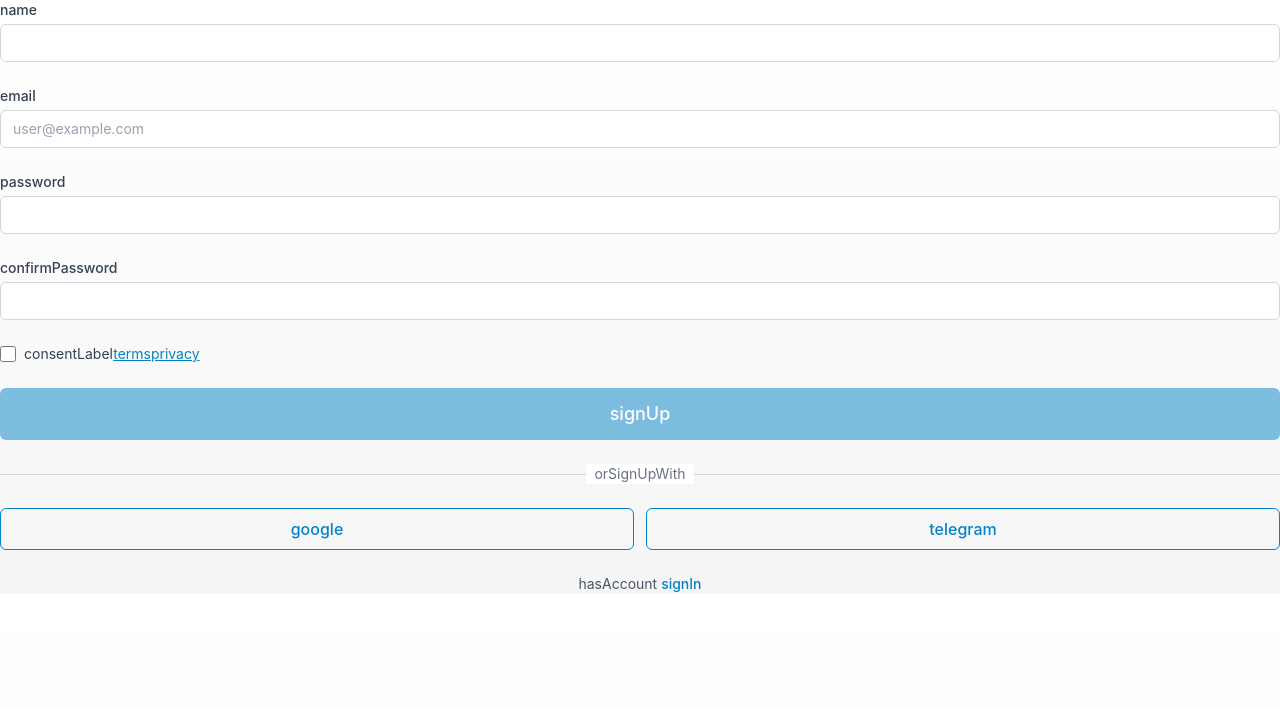
Test: RegisterForm › shows confirm password mismatch error on blur
In the password field labelled "password": (640, 215) [0,196,1279,234], type "Password1"
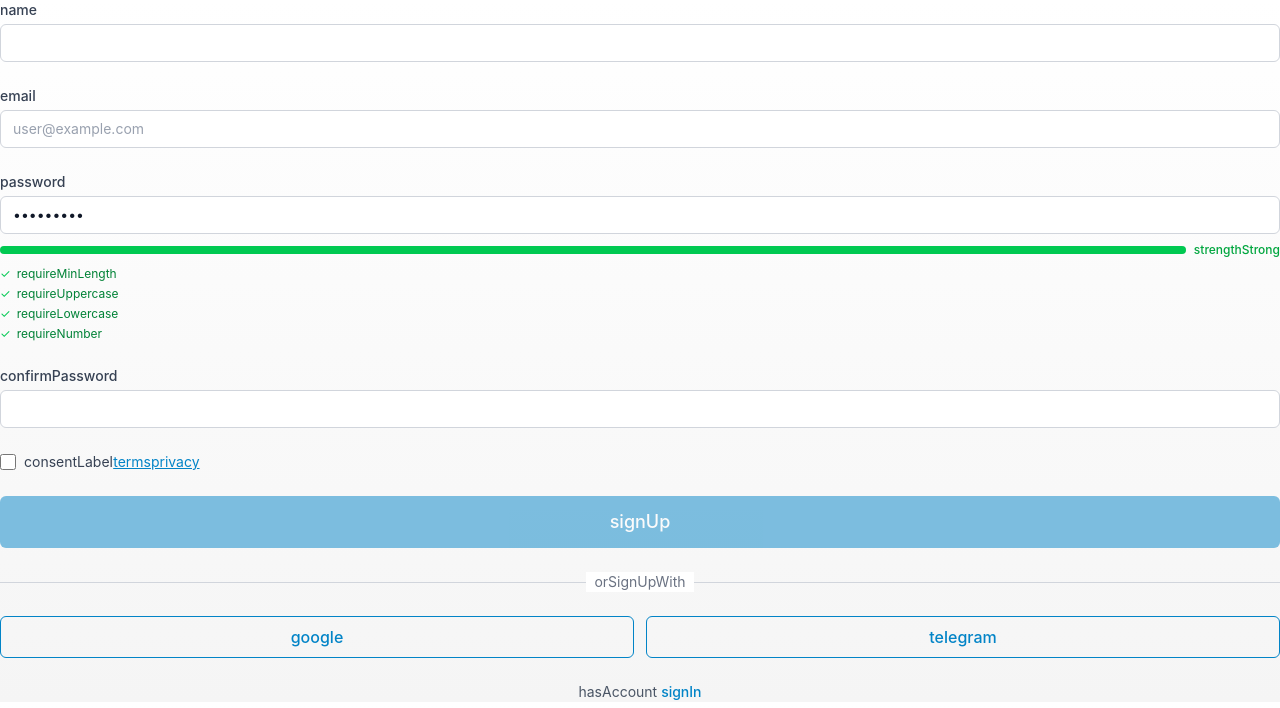
In the password field labelled "confirmPassword": (640, 409) [0,390,1279,428], type "Different1"
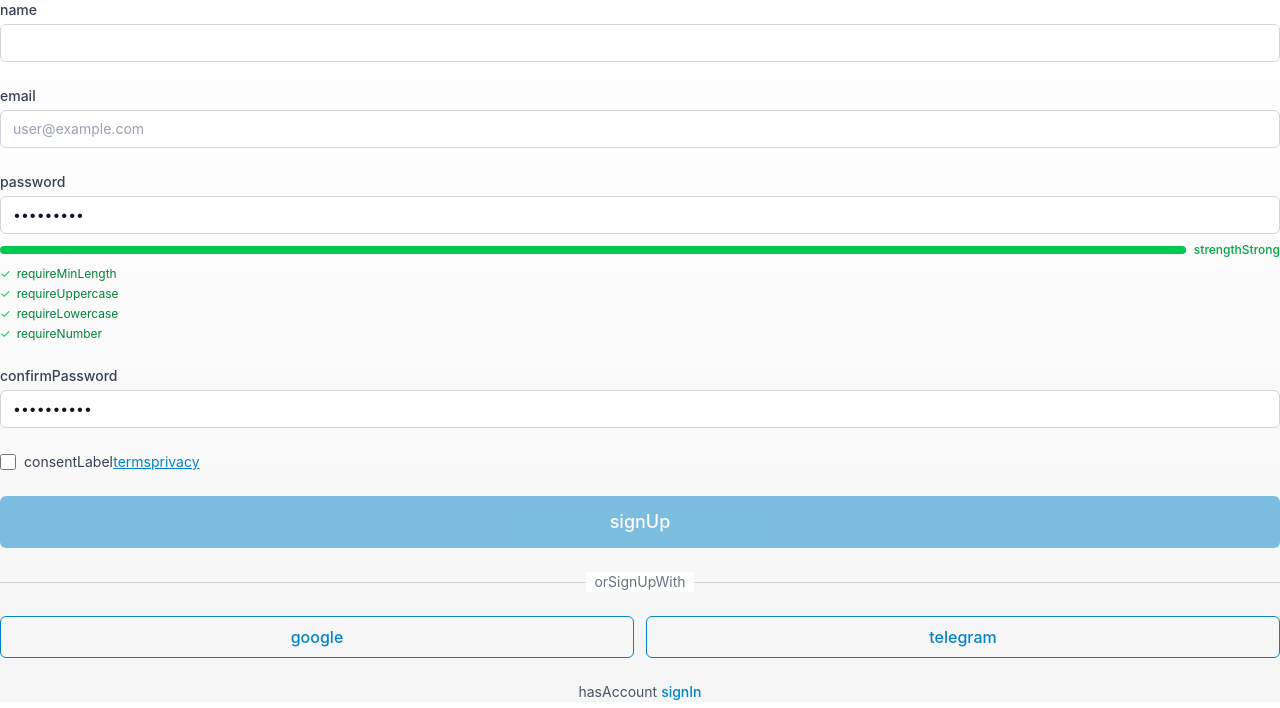
Leave the password field labelled "confirmPassword", box [0,390,1279,428]
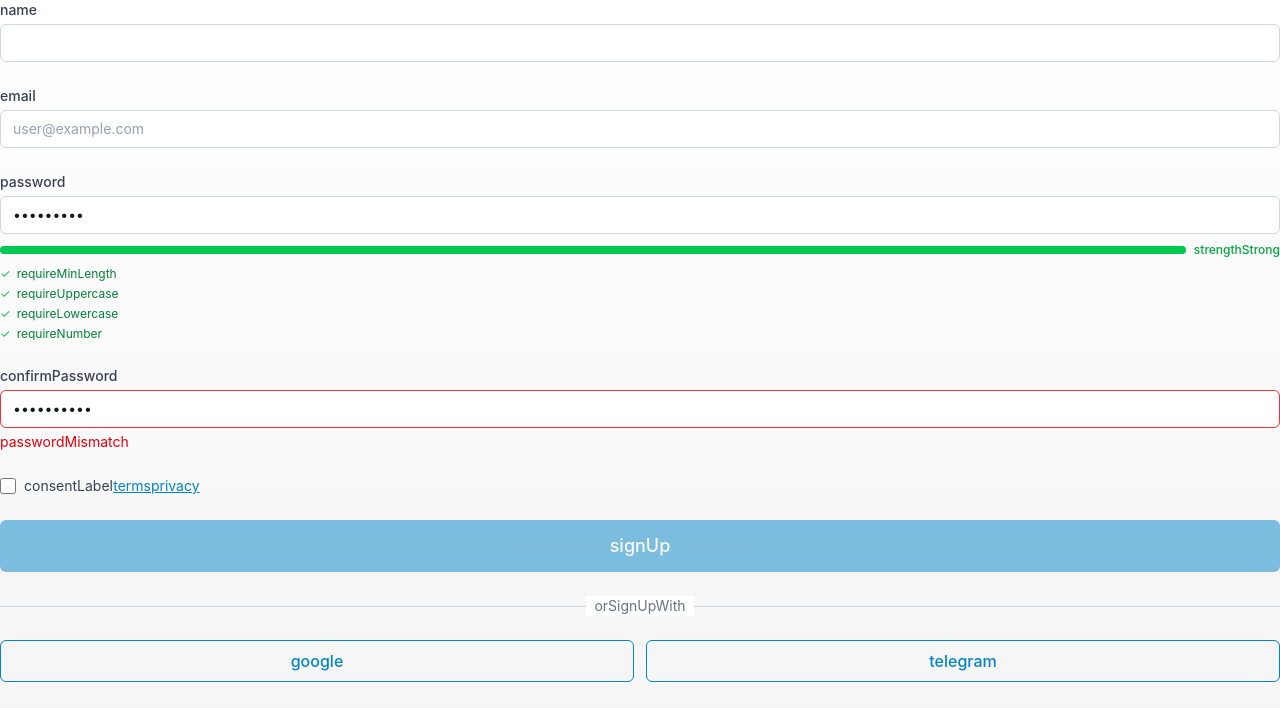
Expected: the text "passwordMismatch" is shown, [0,433,129,450]
